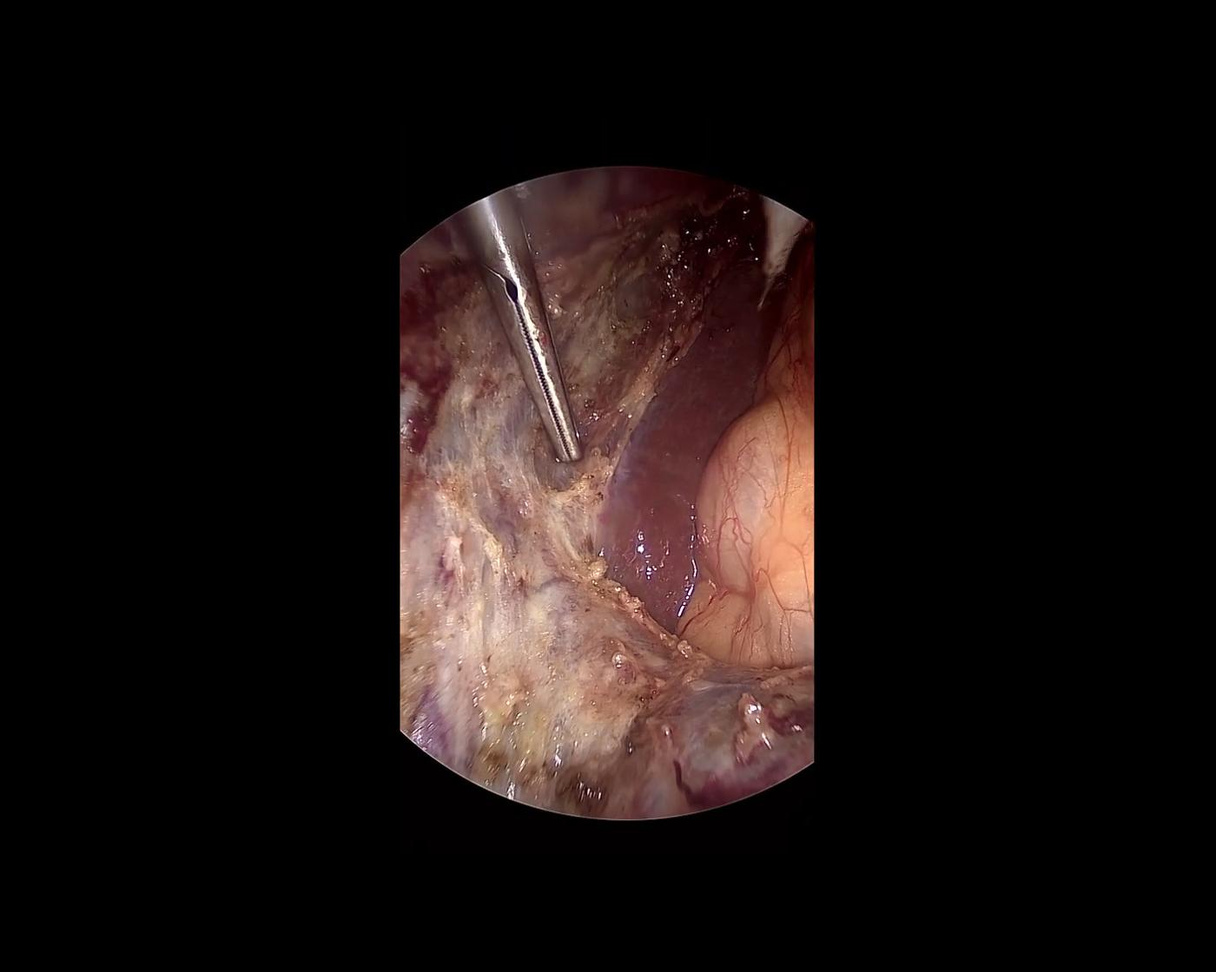Cautery: (718, 196, 808, 313)
Forceps: (454, 183, 578, 472)
Gallbladder: (405, 532, 844, 895)
Liver: (569, 206, 817, 631)
